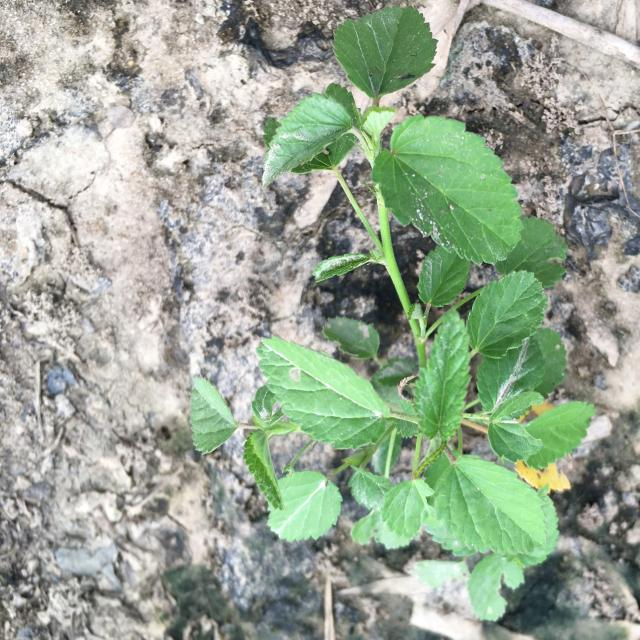PricklySida: (187, 4, 598, 622)
